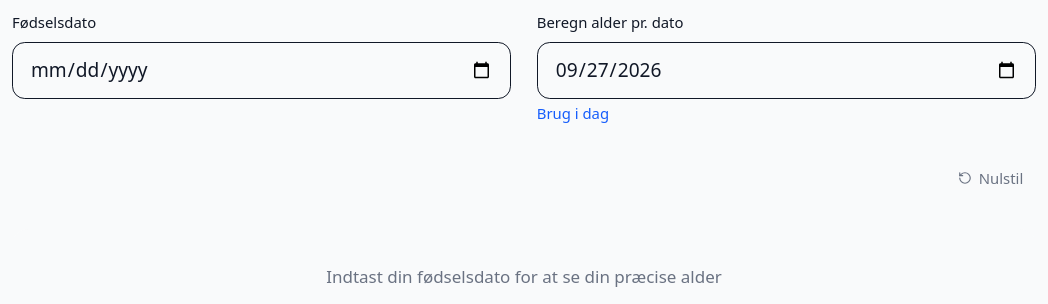
Test: standarddato i læserens egen tidszone › /alder nulstiller til dagens lokale dato, ikke UTC-dagen
Type "2020-01-01" into the date field labelled "Beregn alder pr. dato" at coordinates (786, 70), box [537,42,1036,99]
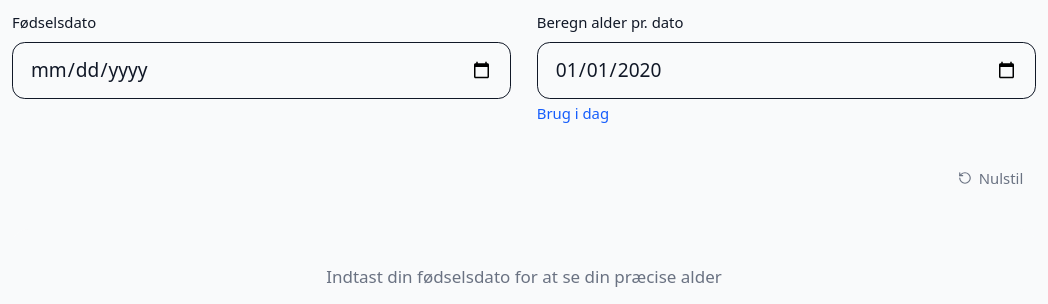
Click the button "Nulstil" at coordinates (991, 178), box [946,161,1036,195]
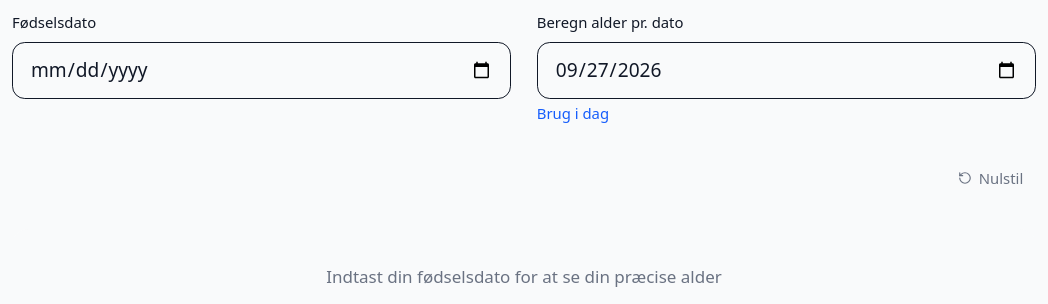
Expected: the date field labelled "Beregn alder pr. dato" holds "2026-09-27", [537,42,1036,99]
